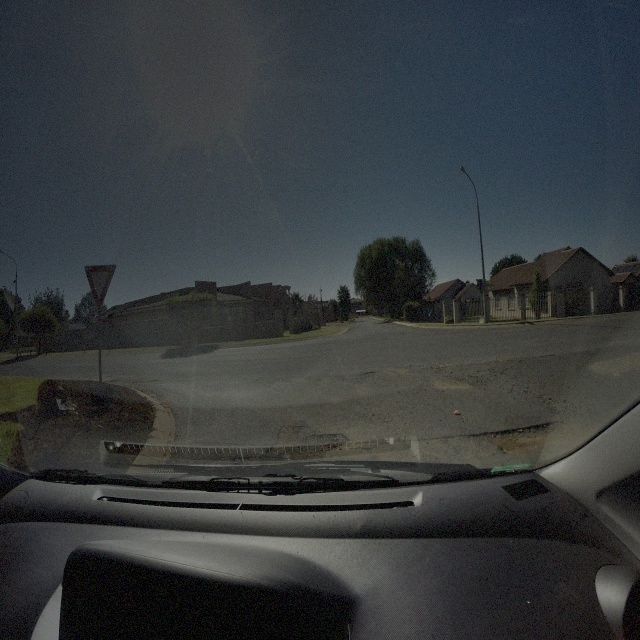pothole: (262, 420, 349, 460), (488, 420, 578, 449), (362, 370, 376, 376)
